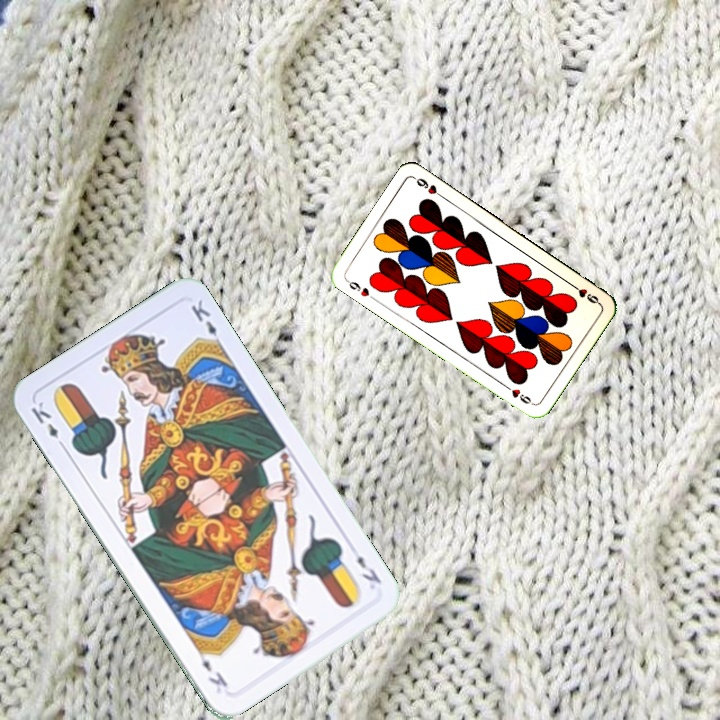EK: (27, 397, 69, 452), (348, 541, 384, 587)
H9: (566, 279, 602, 307), (342, 275, 372, 299)
